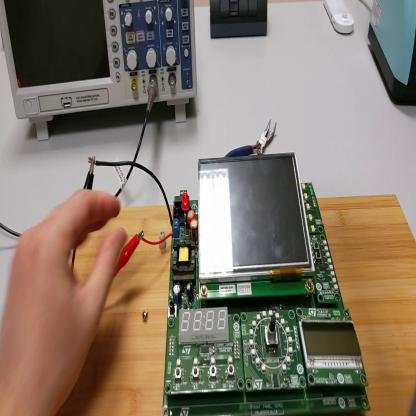hand: (2, 186, 130, 415)
low voltage board: (89, 153, 372, 415)
oscilloscope: (1, 3, 199, 142)
pliers: (227, 118, 280, 159)
welder station: (366, 1, 416, 110)
working area: (60, 192, 415, 414)
